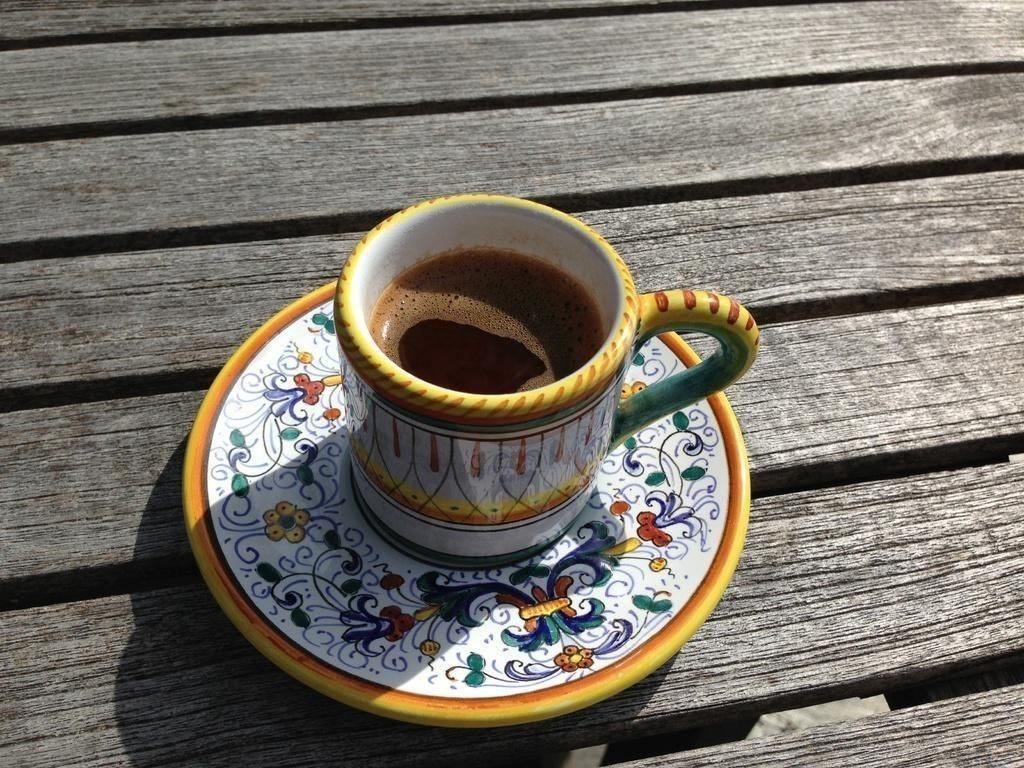cup-handle: (332, 192, 762, 569)
